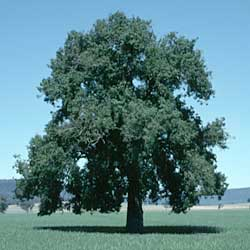plants: (13, 7, 245, 240)
